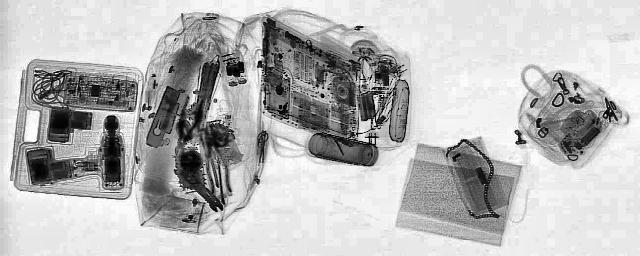Pliers: (196, 126, 234, 192)
Wrench: (183, 176, 229, 212)
